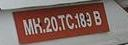0: (49, 15, 58, 30)
1: (73, 12, 80, 27)
2: (42, 16, 51, 32)
8: (77, 11, 86, 27)
9: (84, 11, 92, 26)
B: (91, 9, 101, 25)
C: (64, 12, 75, 28)
K: (31, 16, 42, 33)
M: (20, 17, 34, 34)
T: (56, 13, 66, 30)
